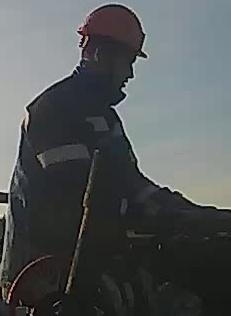helmet: (75, 2, 150, 60)
vest: (0, 83, 145, 315)
